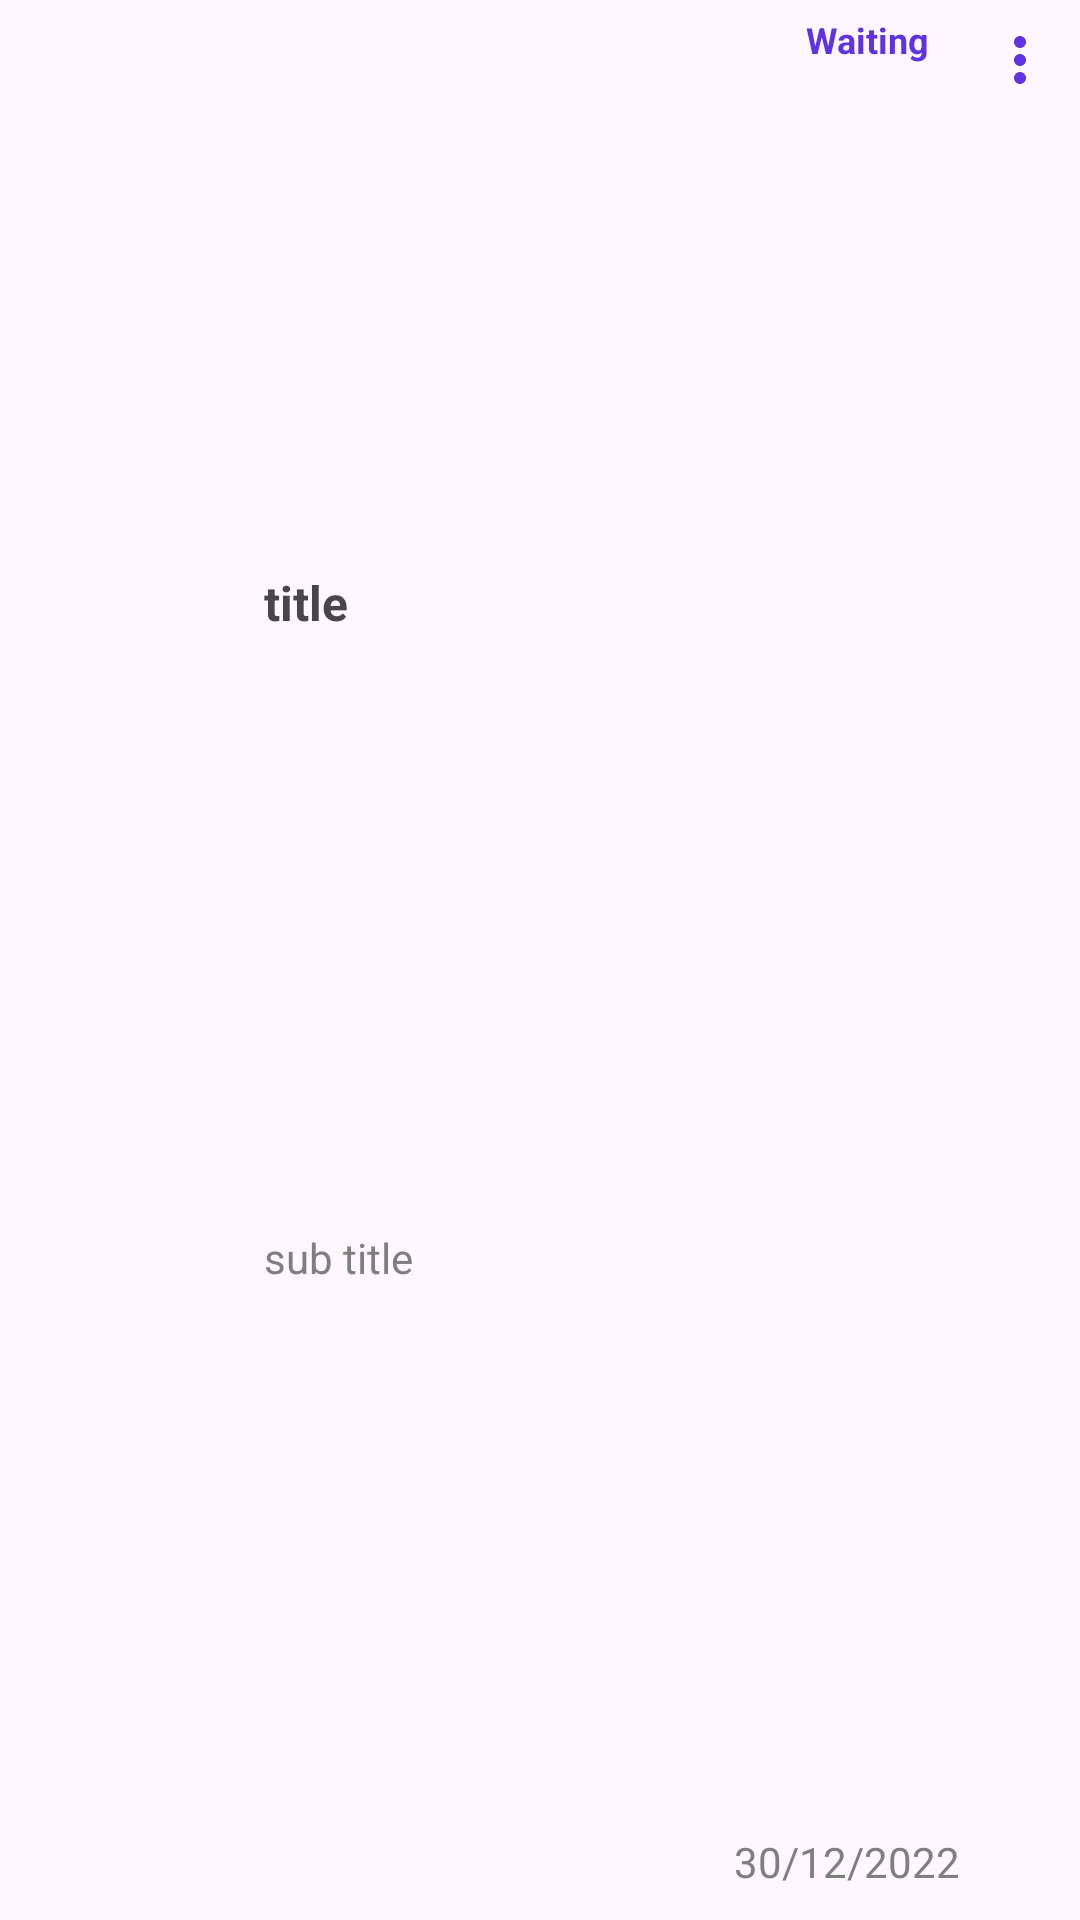

Icon bounding boxes for this 1080*1920 phone screenshot, format (x1, y1, x2, y2):
vertical more: (1014, 36, 1026, 84)
